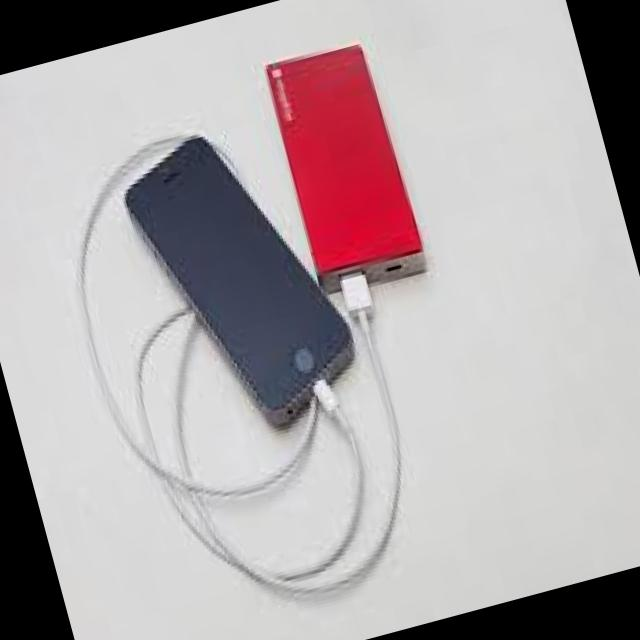power_bank: (260, 32, 432, 306)
